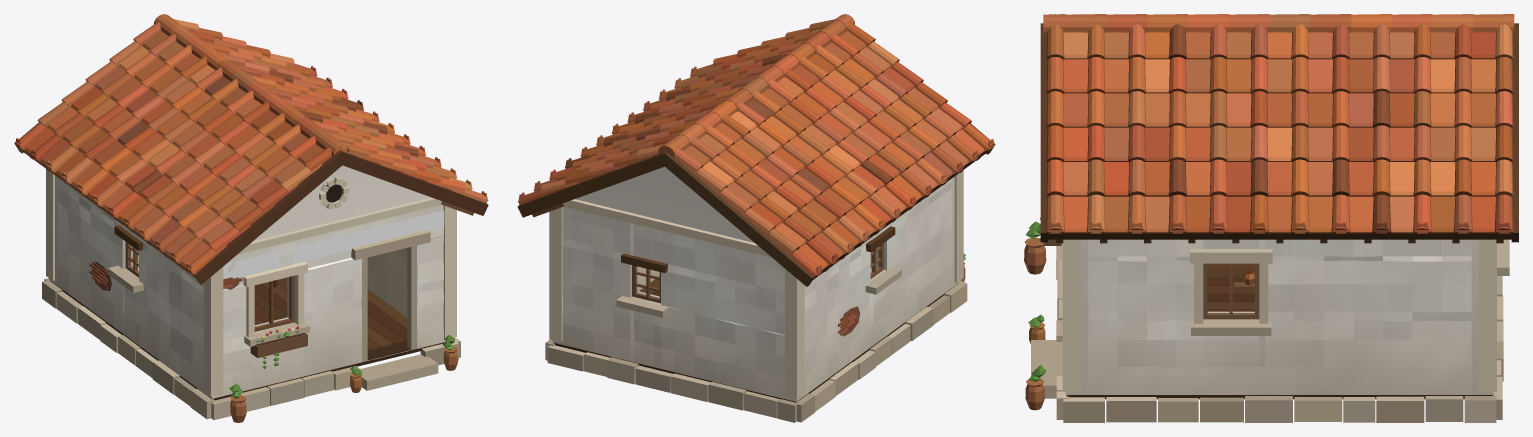
Rendered from pleb_2_1.glb.
3 views of the same model, side by side, from view 1: azimuth 30°, elevation 25°; view 2: azimuth 150°, elevation 25°; view 3: azimuth 270°, elevation 25° (orthographic). The views are drawn at different scales.
Visible parts, largest first — view 1: House, Walls, Rooms, Frieze; view 2: House, Walls; view 3: House, Walls, Rooms.
Boxes of the visible parts, bbox=[...] form: House: bbox=[14, 14, 488, 422]; Walls: bbox=[49, 165, 446, 398]; Rooms: bbox=[138, 248, 407, 351]; Frieze: bbox=[223, 210, 444, 279]; House: bbox=[517, 14, 995, 422]; Walls: bbox=[552, 166, 960, 401]; House: bbox=[1024, 14, 1518, 422]; Walls: bbox=[1065, 239, 1493, 394]; Rooms: bbox=[1207, 263, 1254, 311].
Size of the model in its own units: 4.44 by 3.53 by 4.85.
4 materials, 4 textured.
